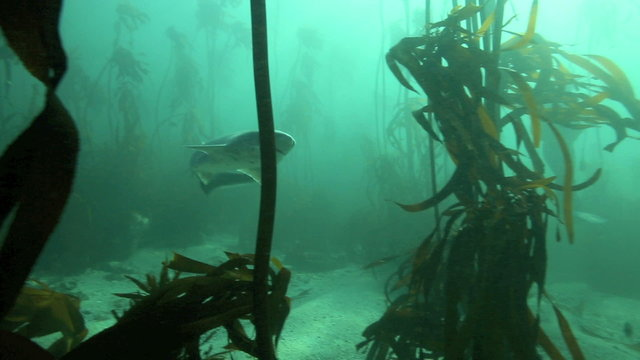Sevengill Shark: (166, 123, 309, 200)
